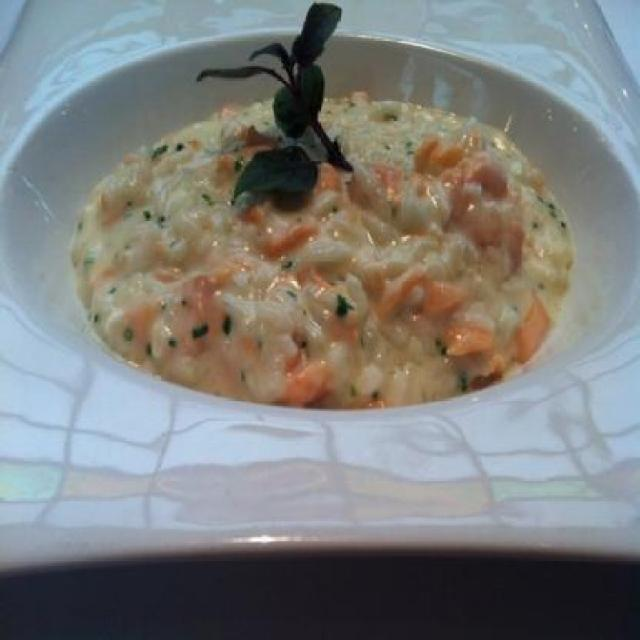Risotto: (61, 88, 582, 434)
